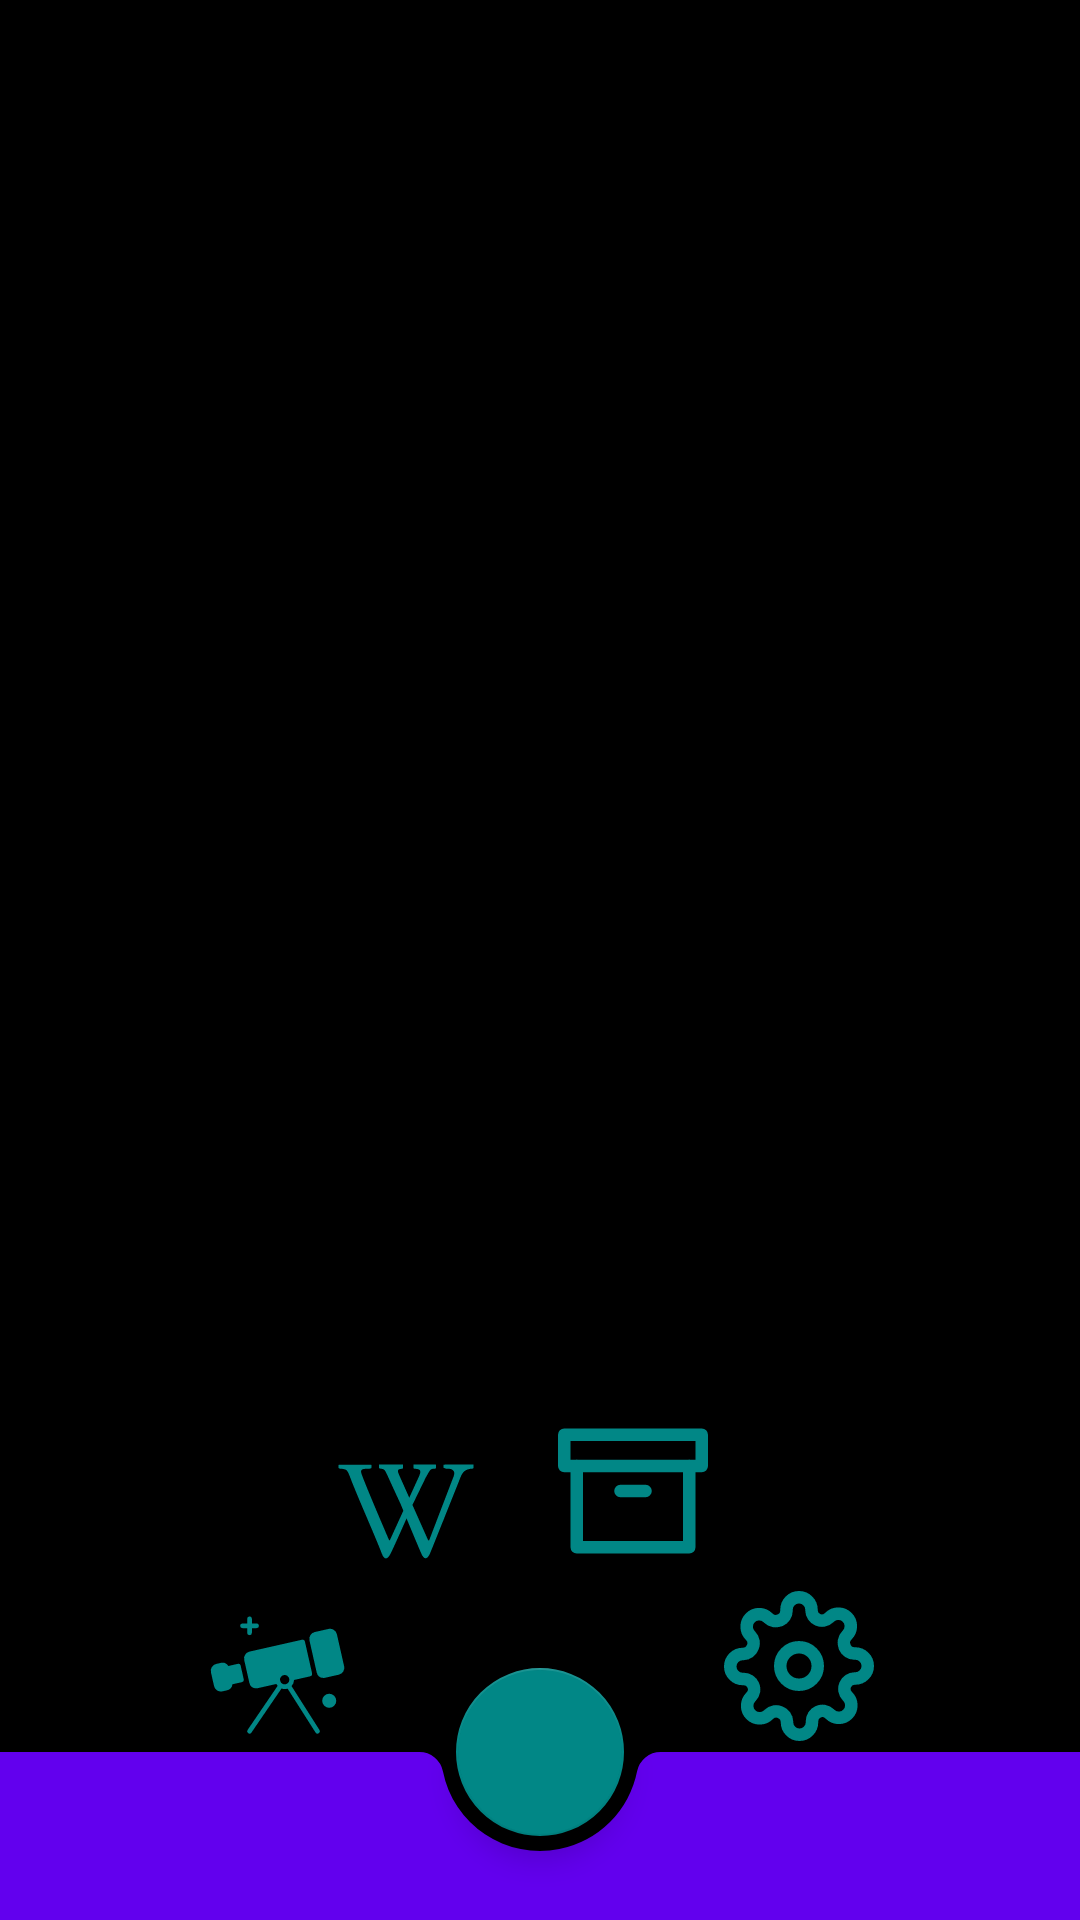

Named icons in this screenshot (1080×1920) and their bounding boxes, rect(x1, y1, x2, y2):
archive tab bottom: rect(558, 1428, 708, 1554)
settings menu tab bottom: rect(724, 1591, 874, 1741)
telescope tab bottom: rect(211, 1616, 345, 1734)
